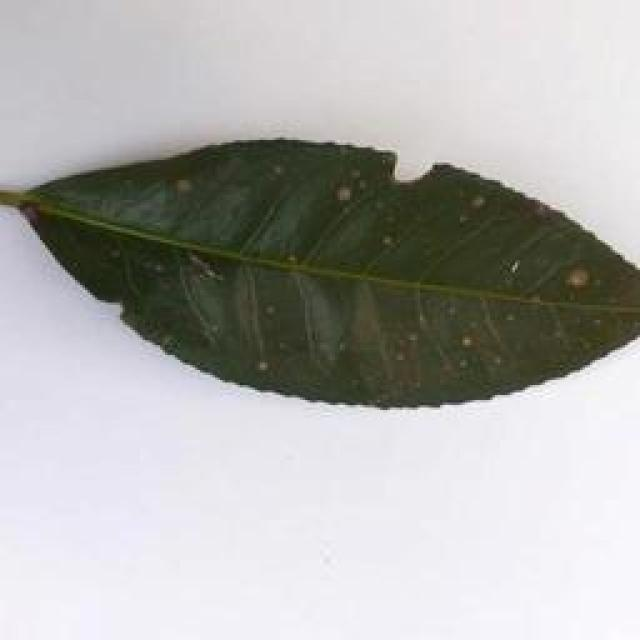Algal Leaf Spot: (0, 119, 640, 424)
